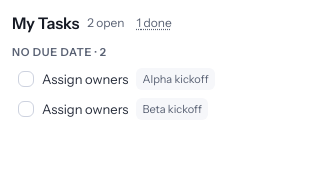
Test: HomeTasks › 'N done' is a control that reveals the completed rows
This screenshot has width=332, height=172.
Expected: the number of elements with test id "home-task" is 2, [18, 68, 215, 90]; [18, 98, 208, 120]
Expected: the text "Confirm scope" is not shown
Click the button with test id "home-tasks-show-done": coordinates (154, 23) [132, 12, 176, 34]
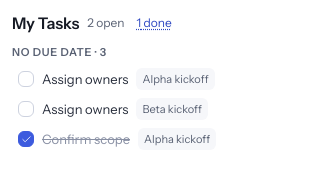
Expected: the number of elements with test id "home-task" is 3, [18, 68, 215, 90]; [18, 98, 208, 120]; [18, 128, 216, 150]
Expected: the text "Confirm scope" is shown, [42, 129, 130, 149]
